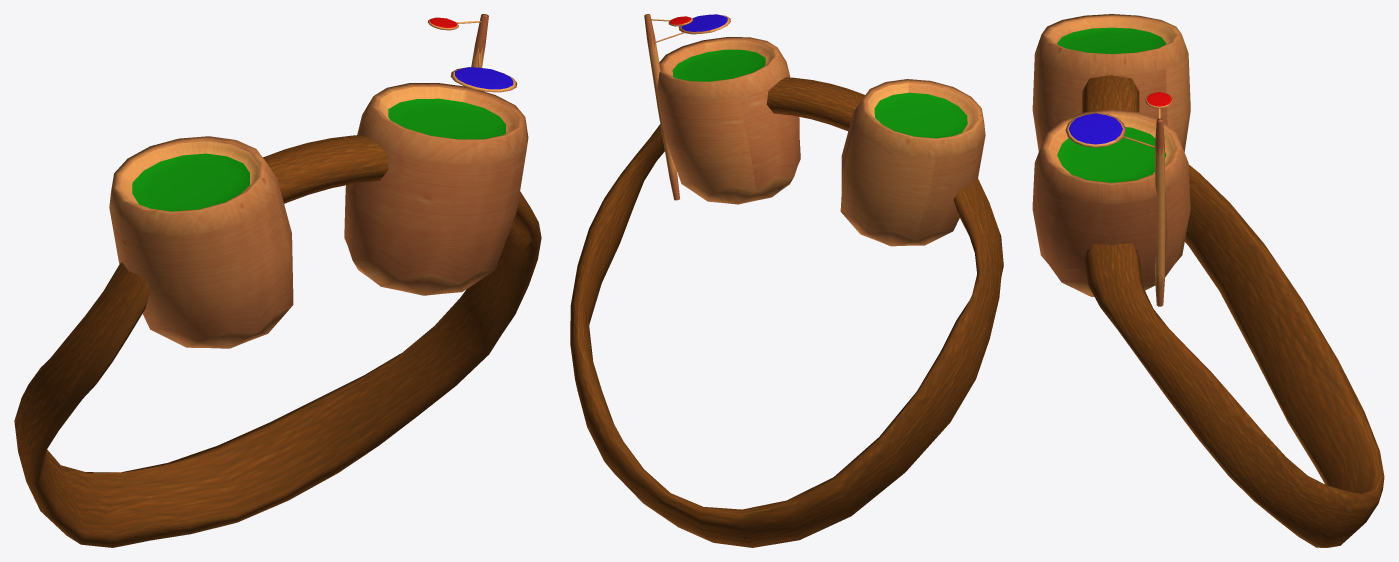
File: Goggles_Final.fbx
3 views of the same model, side by side, from view 1: azimuth 30°, elevation 25°; view 2: azimuth 150°, elevation 25°; view 3: azimuth 270°, elevation 25° (orthographic). The views are drawn at different scales.
Visible parts, largest first — view 1: polySurface2295; view 2: polySurface2295; view 3: polySurface2295.
Part boxes in pixels (box(x1,y1,x2,y2)): polySurface2295: box(14, 14, 541, 547); polySurface2295: box(570, 14, 1003, 547); polySurface2295: box(1032, 14, 1384, 547).
Size of the model in its own units: 47.49 by 50.84 by 33.01.
2 materials, 2 textured.
